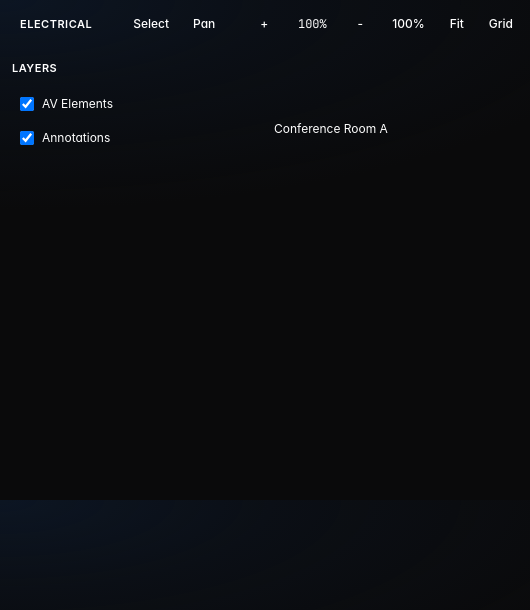
it: DrawingCanvas Component › Zoom Controls › zooms out when clicking zoom out button
Click the button named "zoom out" at (360, 24), box [344,8,376,40]
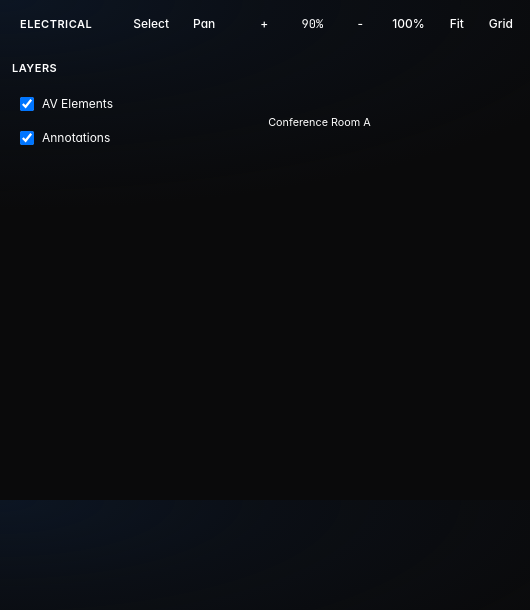
expect the text with test id "zoom-level" reads "90%": met, box [302,16,323,32]
